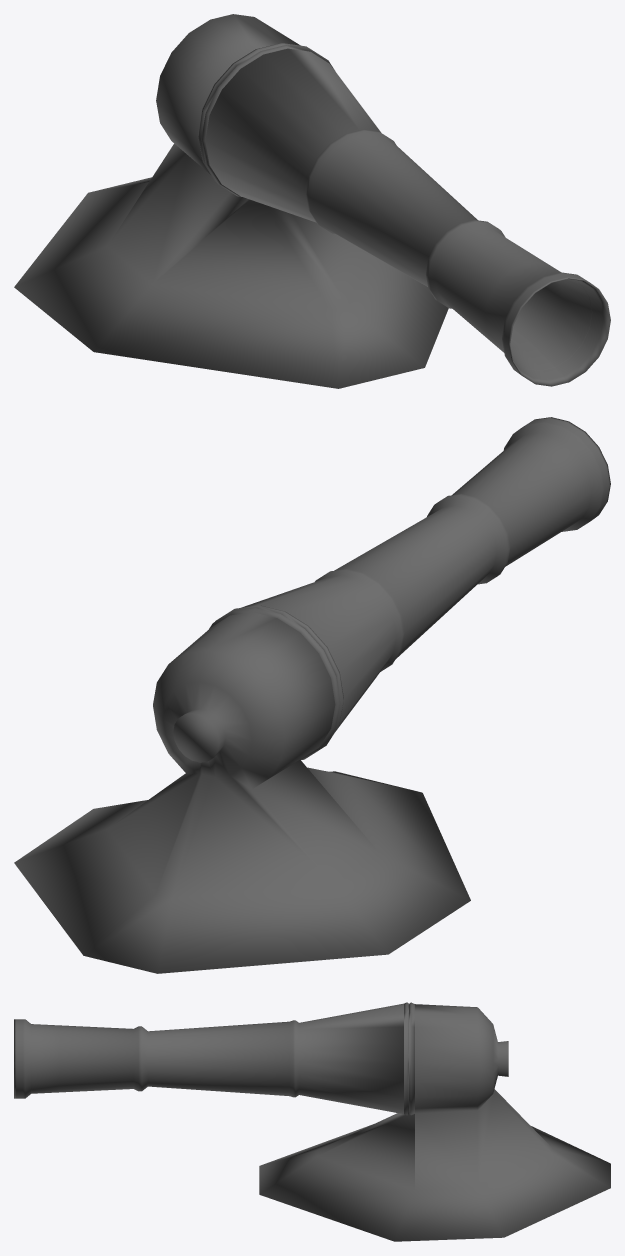
Rendered from RTXCannon.obj.
3 renders of one model, top to bottom at view 1: azimuth 30°, elevation 25°; view 2: azimuth 150°, elevation 25°; view 3: azimuth 270°, elevation 25°, orthographic. The views are drawn at different scales.
Parts seen in each view (by area): view 1: RTXCannon; view 2: RTXCannon; view 3: RTXCannon.
Boxes of the visible parts, x1=… form: RTXCannon: x1=14, y1=14, x2=610, y2=388; RTXCannon: x1=14, y1=417, x2=610, y2=973; RTXCannon: x1=14, y1=1002, x2=610, y2=1241.
Bounding box in the file's own units: 26.02 × 16.68 × 52.45.
